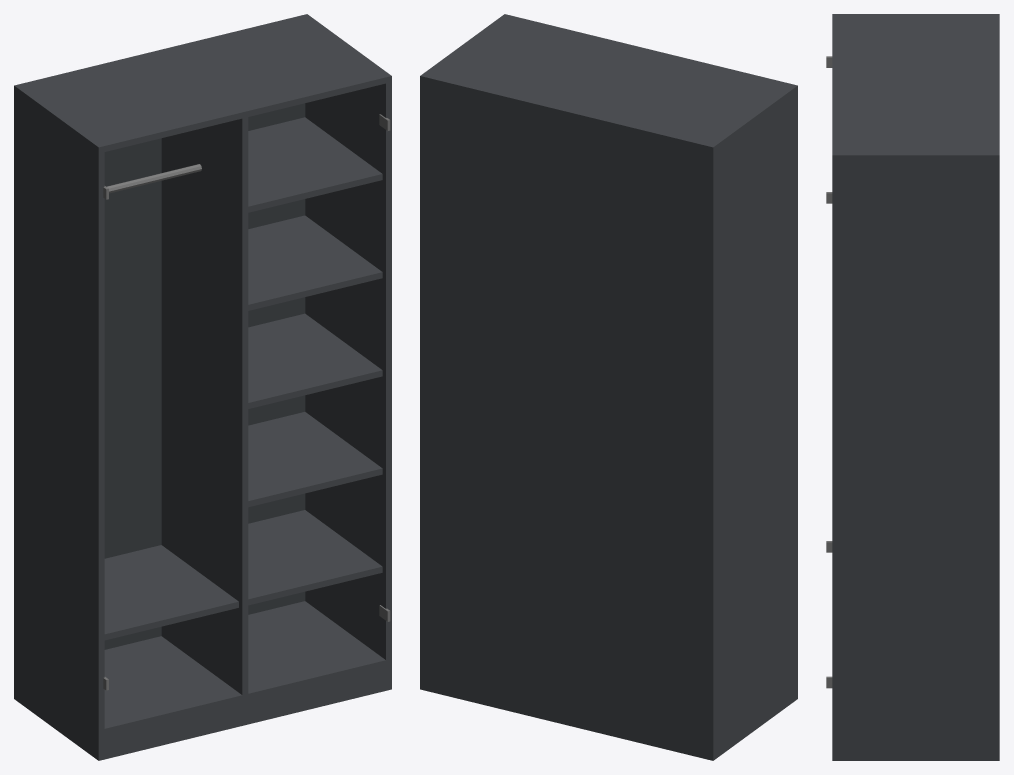
The model's file is Wardrobe1_C2.fbx.
3 renders of one model, left to right at view 1: azimuth 30°, elevation 25°; view 2: azimuth 150°, elevation 25°; view 3: azimuth 270°, elevation 25°, orthographic.
Parts seen in each view (by area): view 1: Wardrobe1_C2; view 2: Wardrobe1_C2; view 3: Wardrobe1_C2.
Part boxes in pixels (x1,y1,x2,y2): Wardrobe1_C2: [14, 14, 391, 760]; Wardrobe1_C2: [420, 14, 797, 760]; Wardrobe1_C2: [826, 14, 999, 760].
Size of the model in its own units: 100 by 200 by 51.79.
